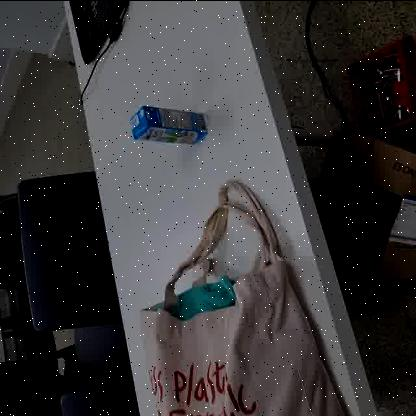Others: (124, 100, 216, 148)
